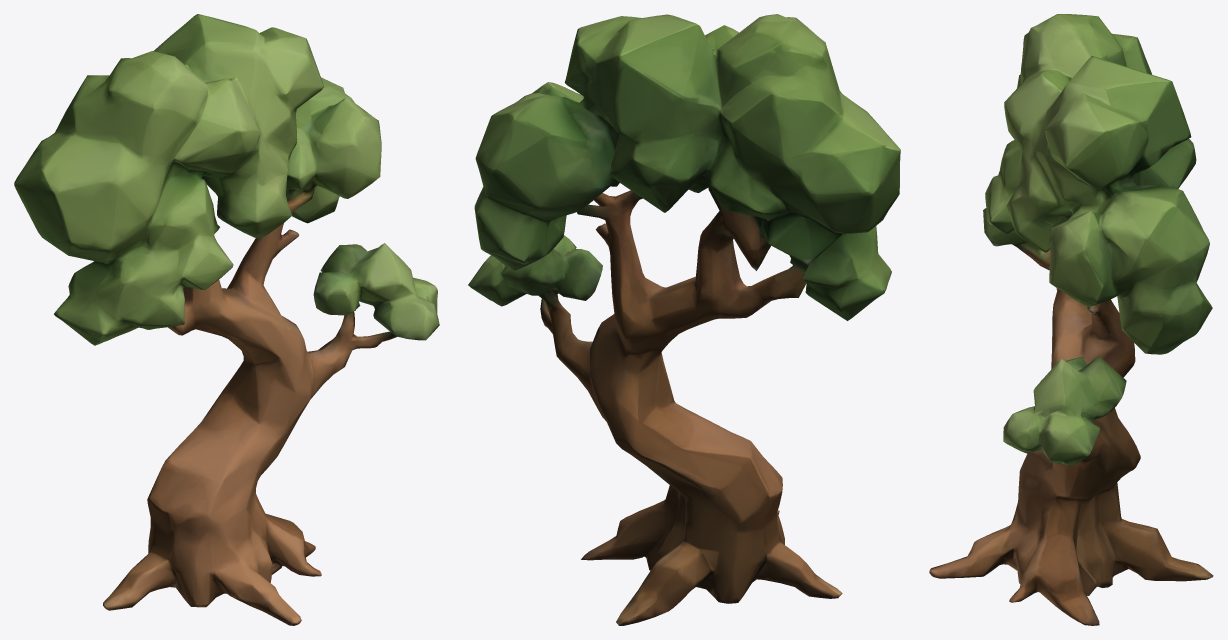
The model's file is lowpolytree.glb.
3 views of the same model, side by side, from view 1: azimuth 30°, elevation 25°; view 2: azimuth 150°, elevation 25°; view 3: azimuth 270°, elevation 25° (orthographic). The views are drawn at different scales.
Parts seen in each view (by area): view 1: input; view 2: input; view 3: input.
Part boxes in pixels (x1,y1,x2,y2): input: [14, 14, 439, 625]; input: [468, 14, 900, 625]; input: [929, 14, 1213, 625].
Size of the model in its own units: 1.08 by 1.4 by 0.6852.
1 material, 1 textured.
